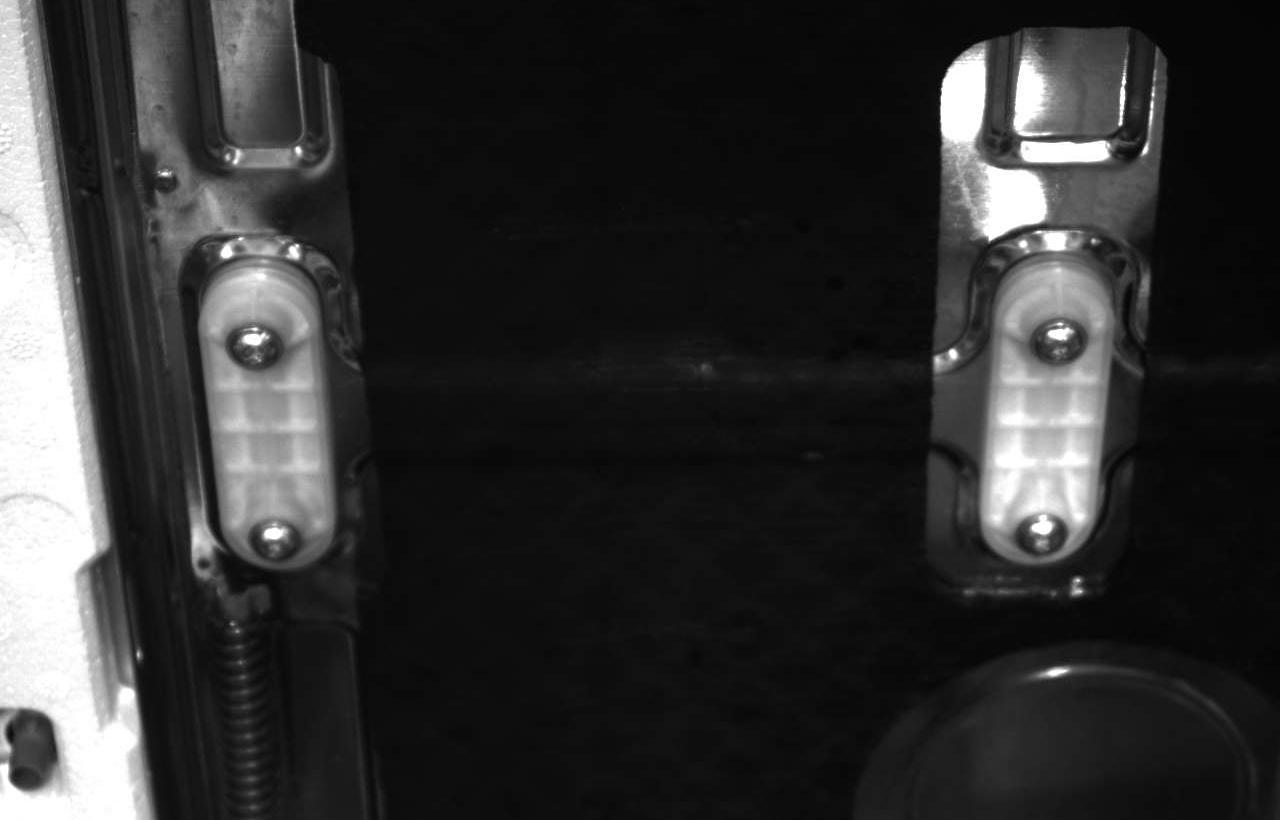vida-ok: (221, 315, 293, 382), (1010, 492, 1076, 561), (1024, 308, 1091, 375), (240, 509, 306, 568)
